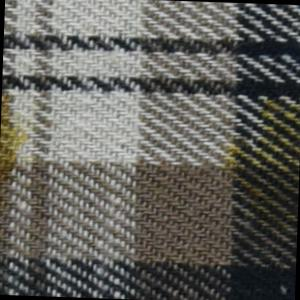Oil Stain: (218, 96, 300, 239), (1, 89, 38, 217)
